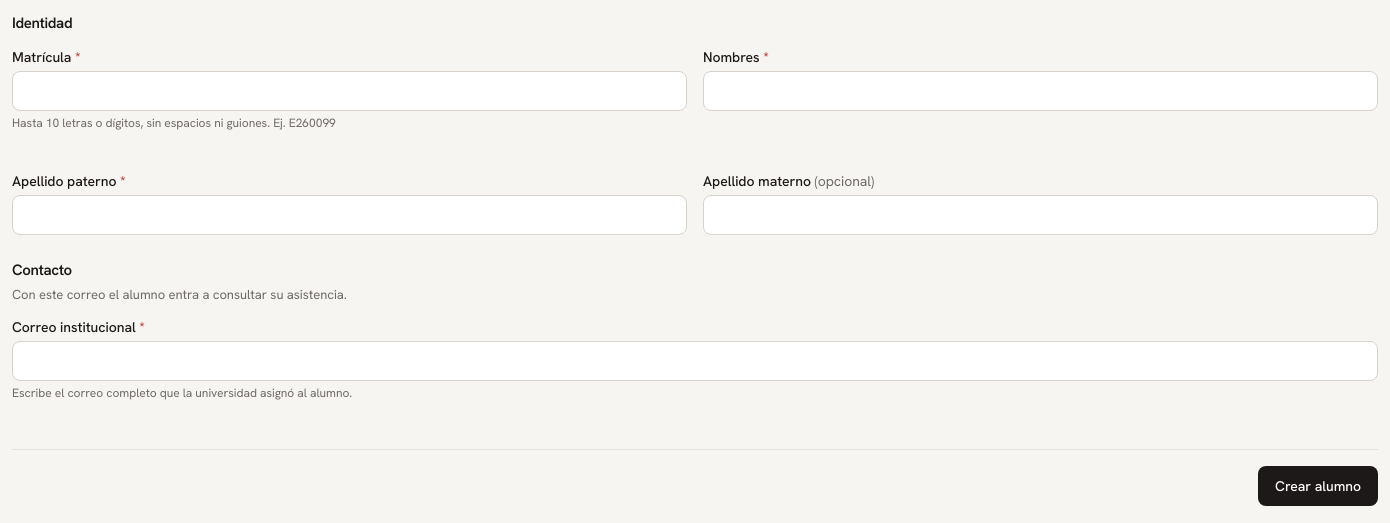
Scenario: AlumnoForm (alta simple) › un DUPLICADO del servidor queda pegado a la matrícula, con foco, y conserva lo escrito
This screenshot has width=1390, height=523.
Type "E260099" into the field labelled "Matrícula *".
click(350, 90); type("E260099")  # box [12,70,687,110]
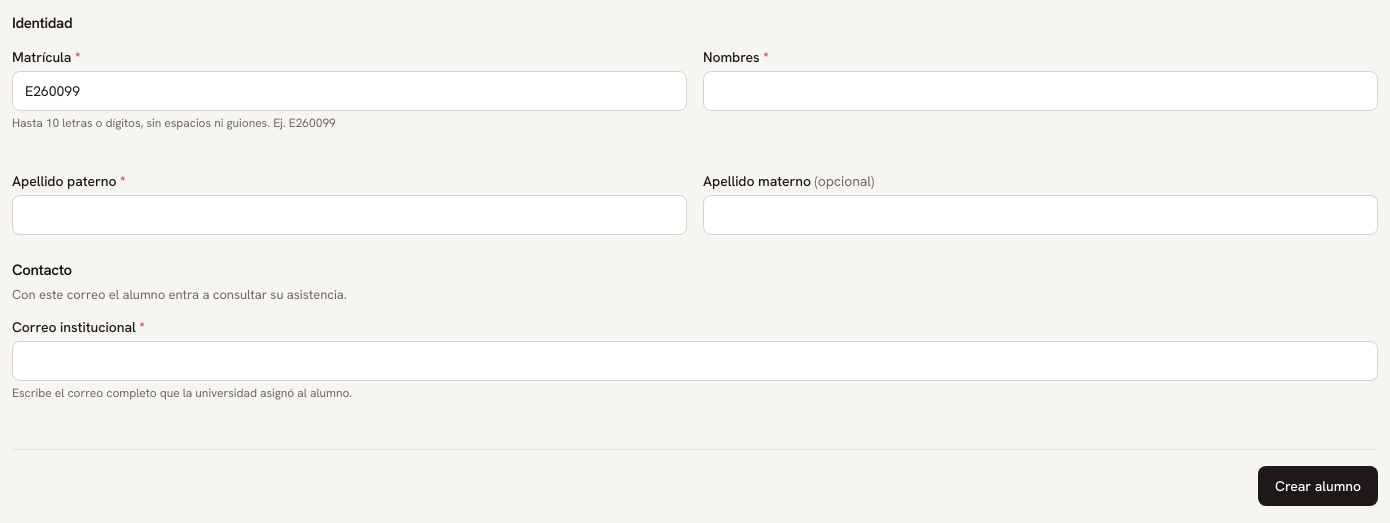
Type "Soto" into the field labelled "Apellido paterno *".
click(350, 214); type("Soto")  # box [12,194,687,234]
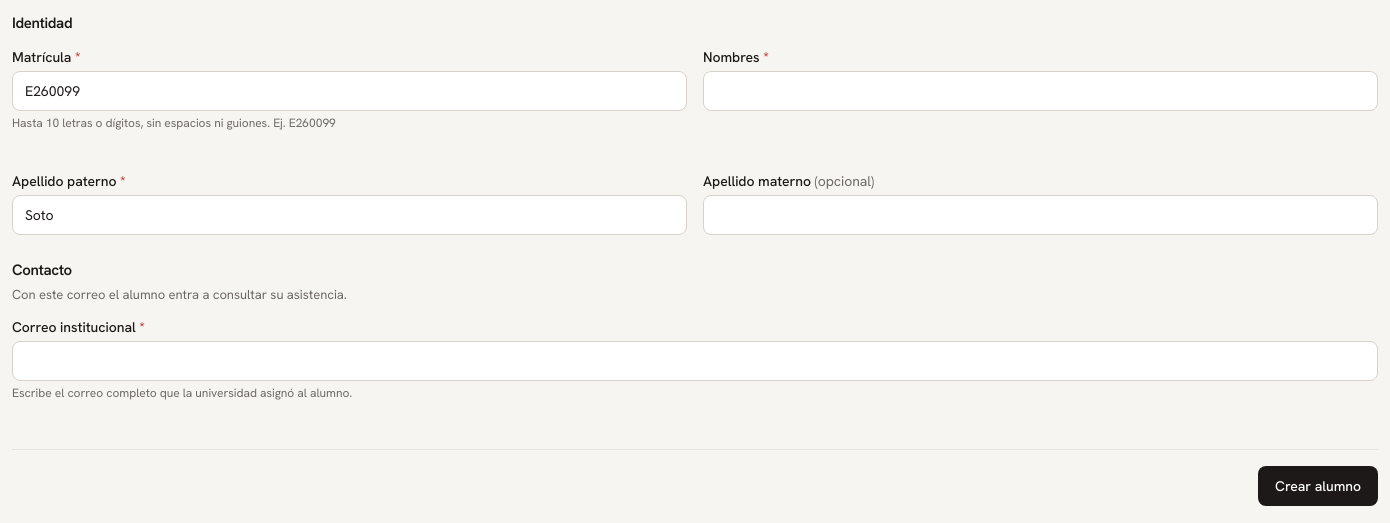
Type "Carla" into the field labelled "Nombres *".
click(1040, 90); type("Carla")  # box [703,70,1378,110]
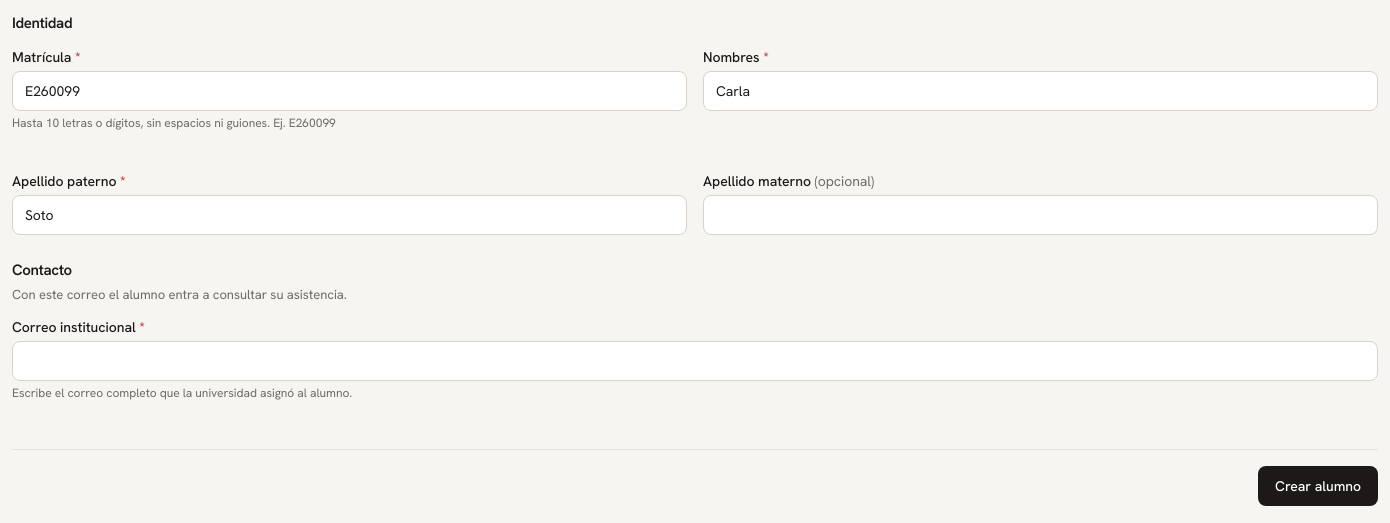
Type "e260099@unach.mx" into the field labelled "Correo institucional *".
click(695, 360); type("e260099@unach.mx")  # box [12,340,1378,380]
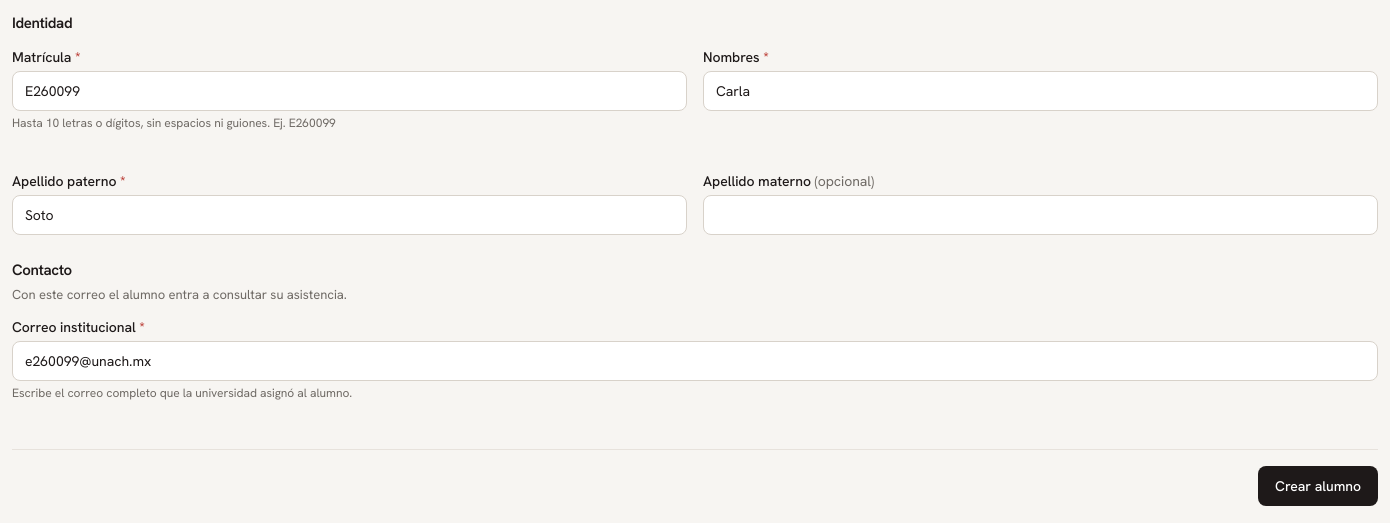
Click the button "Crear alumno".
click(1318, 486)  # box [1258,466,1378,506]
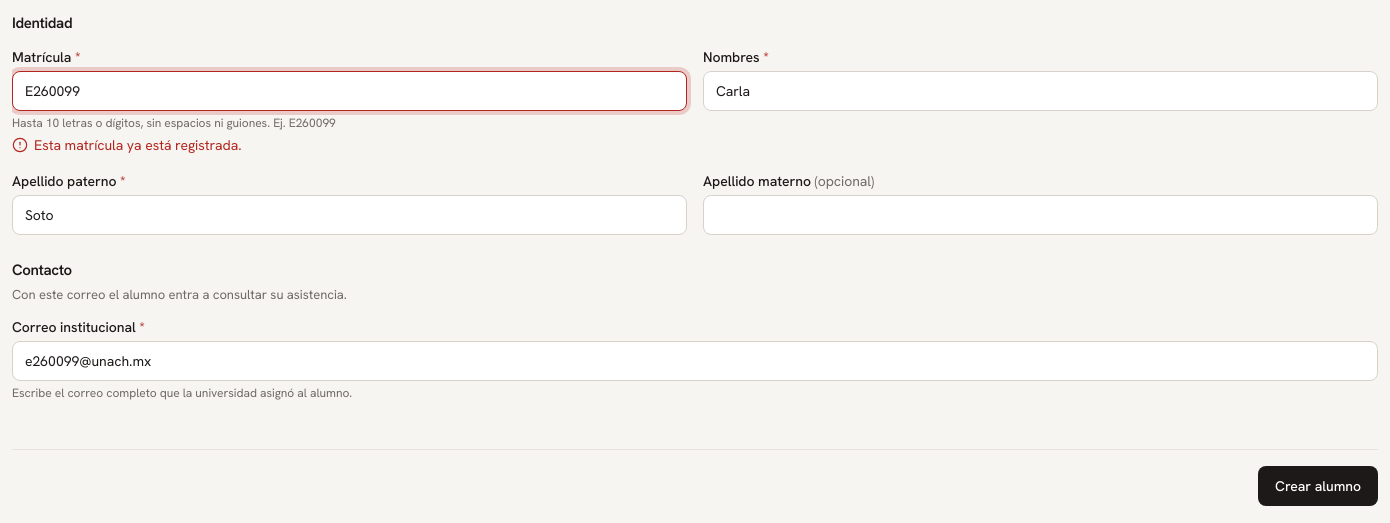
Result: the text "Esta matrícula ya está registrada." is shown at [12,136,242,154]
Replace the text in the field labelled "Matrícula *" with "E260098" at (350, 90), box [12,70,687,110]
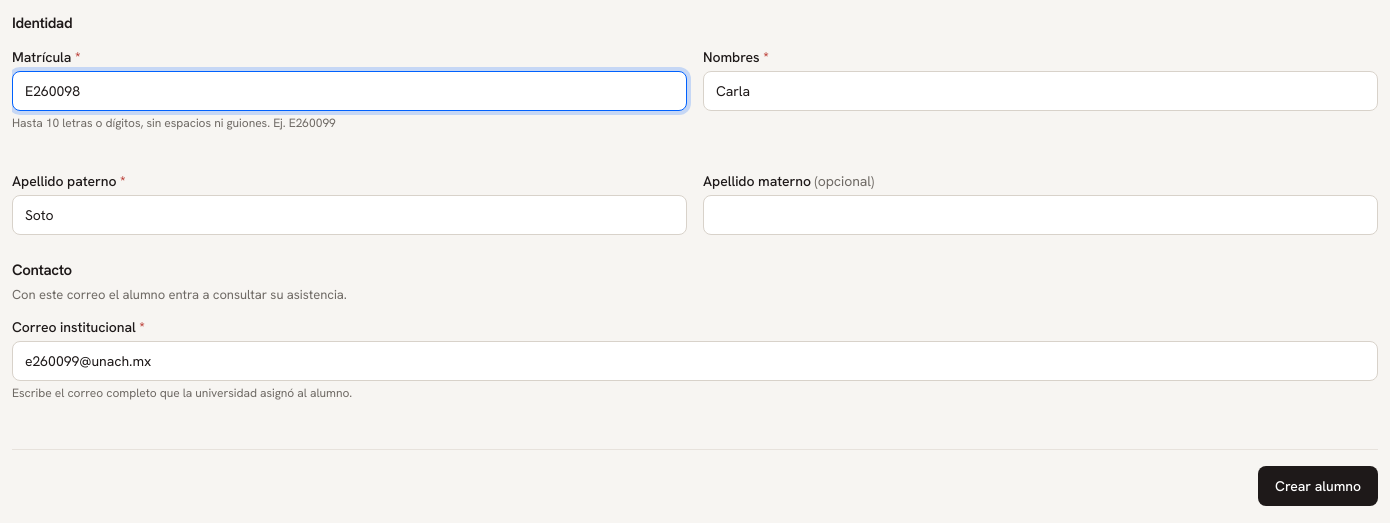
Result: the text "Esta matrícula ya está registrada." is gone
